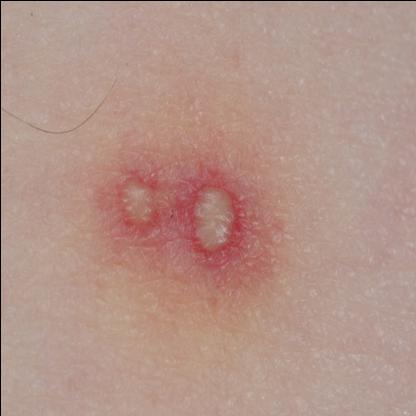Fire ant: (184, 180, 240, 254), (114, 168, 171, 230)
